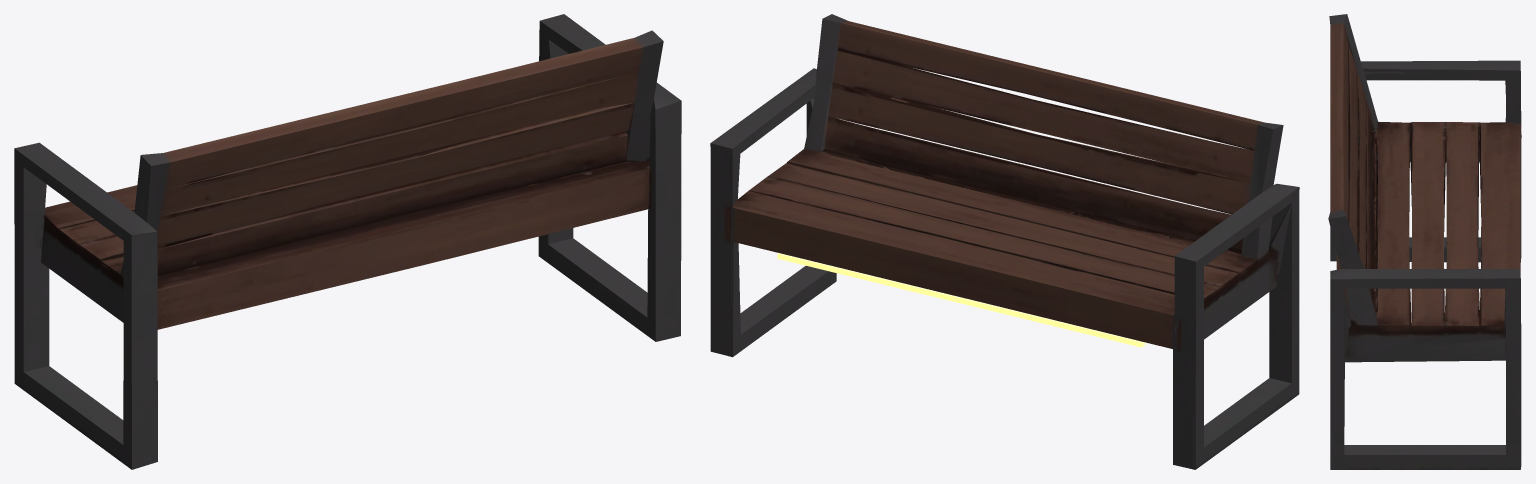
File: seat_bench_v2.glb
The picture shows the model from 3 angles, left to right: view 1: azimuth 30°, elevation 25°; view 2: azimuth 150°, elevation 25°; view 3: azimuth 270°, elevation 25°; orthographic projection. The views are drawn at different scales.
Parts seen in each view (by area): view 1: body; view 2: body, lights; view 3: body.
Boxes of the visible parts, <box> form: body: <box>14,14,681,469</box>; body: <box>710,14,1299,469</box>; lights: <box>777,253,1145,347</box>; body: <box>1328,14,1521,469</box>.
Bounding box in the file's own units: 1.6 × 0.8425 × 0.5995.
Materials: 2 (1 with a texture image).
